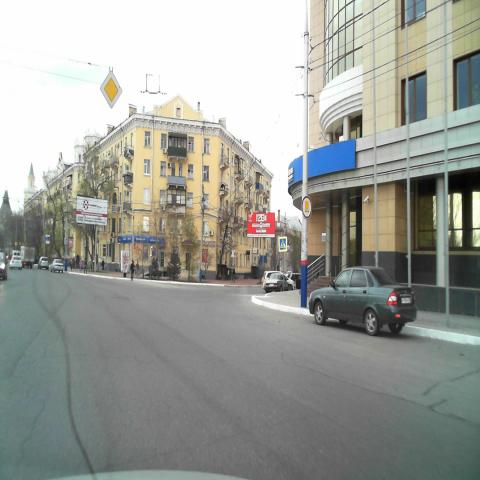3_32: (301, 195, 312, 219)
